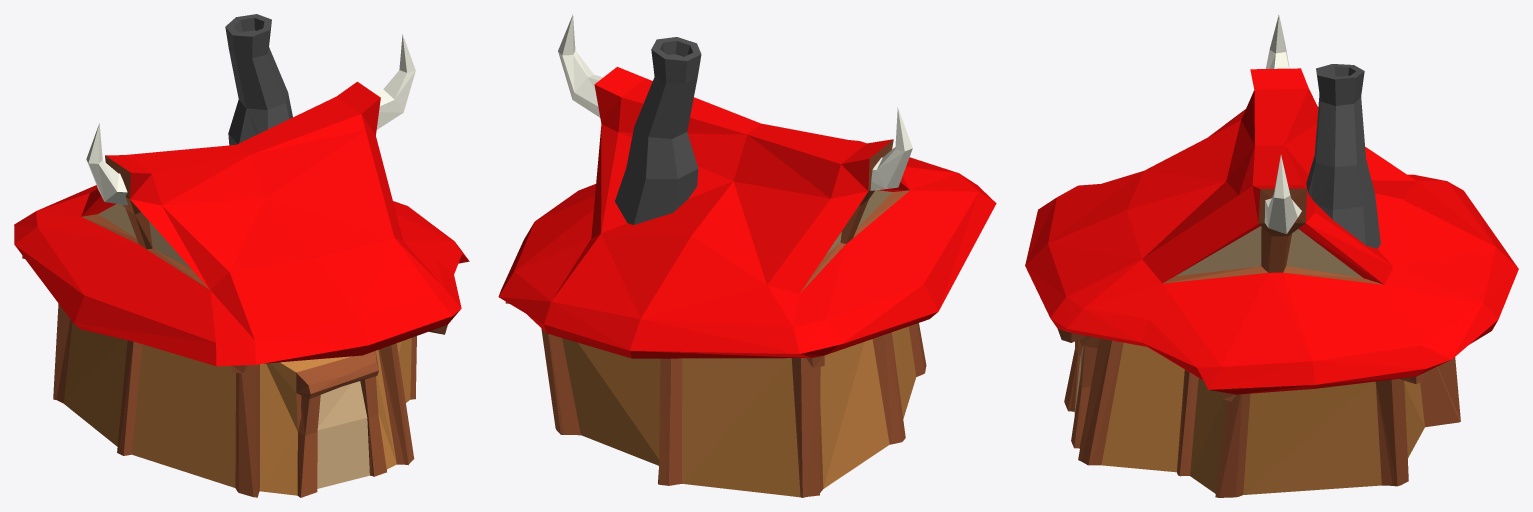
Rendered from Prop_Building_Savage_Tribal_Tusk_Cloth_Timber_Chimney_01.FBX.
3 views of the same model, side by side, from view 1: azimuth 30°, elevation 25°; view 2: azimuth 150°, elevation 25°; view 3: azimuth 270°, elevation 25° (orthographic). The views are drawn at different scales.
Visible parts, largest first — view 1: Prop_Building_Savage_Tribal_Tusk_Cloth_Timber_Chimney_01; view 2: Prop_Building_Savage_Tribal_Tusk_Cloth_Timber_Chimney_01; view 3: Prop_Building_Savage_Tribal_Tusk_Cloth_Timber_Chimney_01.
Boxes of the visible parts, <box> form: Prop_Building_Savage_Tribal_Tusk_Cloth_Timber_Chimney_01: <box>14,14,469,497</box>; Prop_Building_Savage_Tribal_Tusk_Cloth_Timber_Chimney_01: <box>498,14,996,497</box>; Prop_Building_Savage_Tribal_Tusk_Cloth_Timber_Chimney_01: <box>1025,15,1518,497</box>.
Size of the model in its own units: 8898 by 8276 by 9906.
